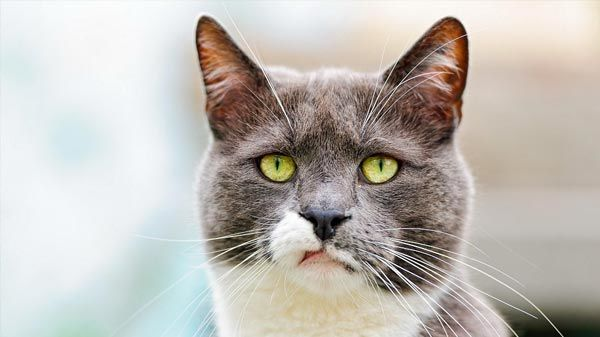Gato: (180, 4, 491, 300)
